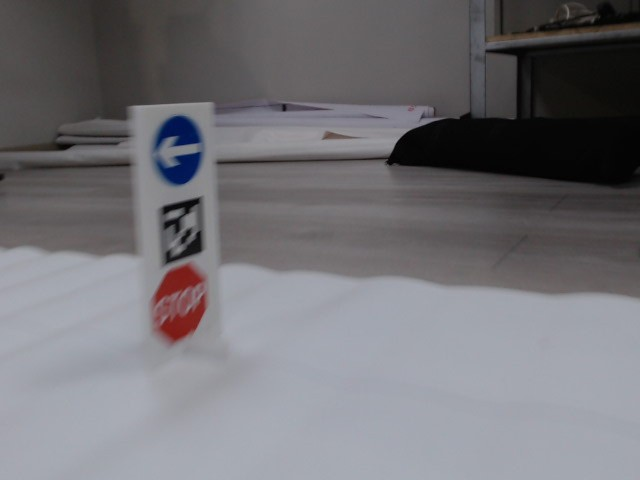Stop: (151, 264, 211, 343)
